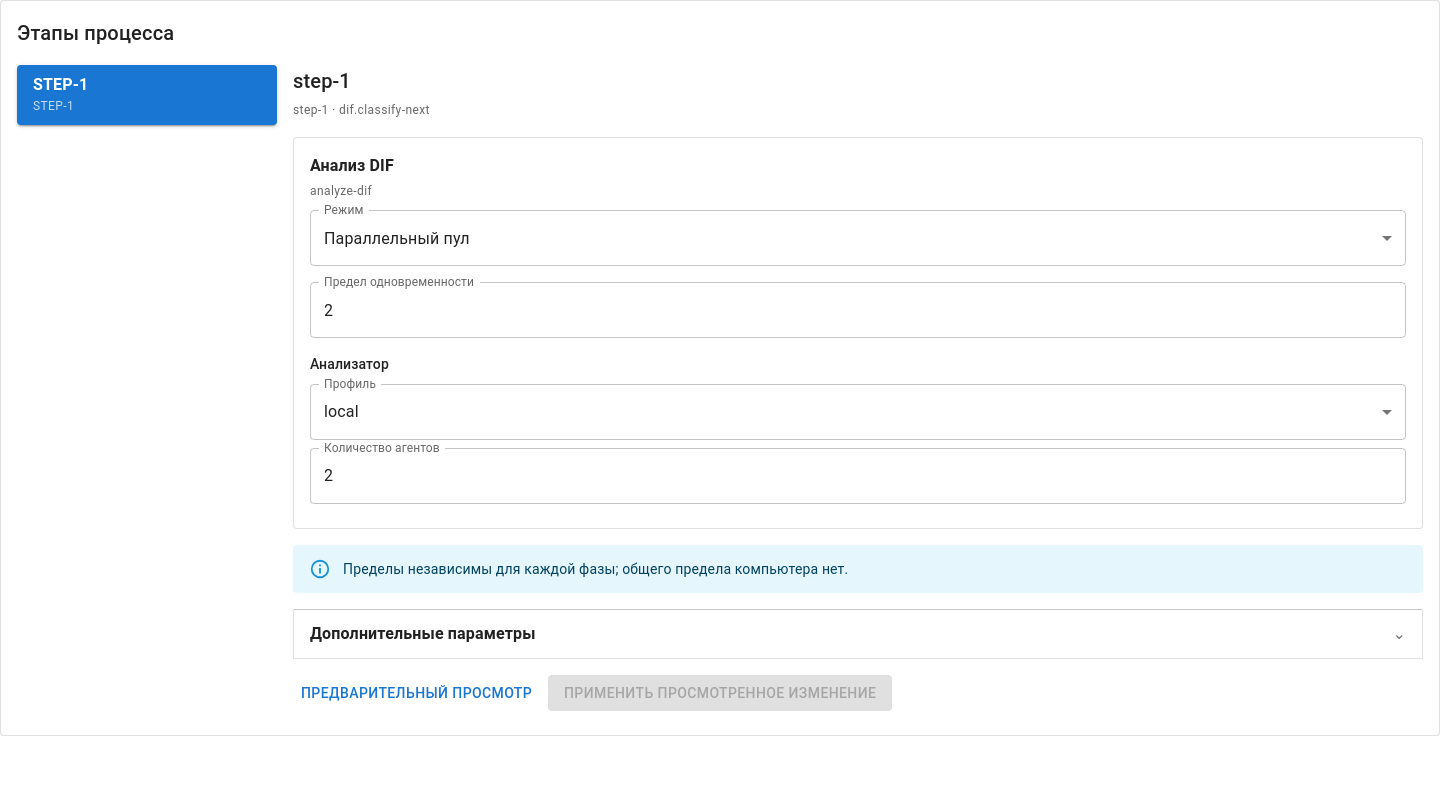
Test: workflow editor shows a server topology error
This screenshot has width=1440, height=810.
Expected: the element named "Режим analyze-dif" is shown, [310,210,1406,266]
Click the button "Предварительный просмотр" at (416, 693), box [293,675,540,712]
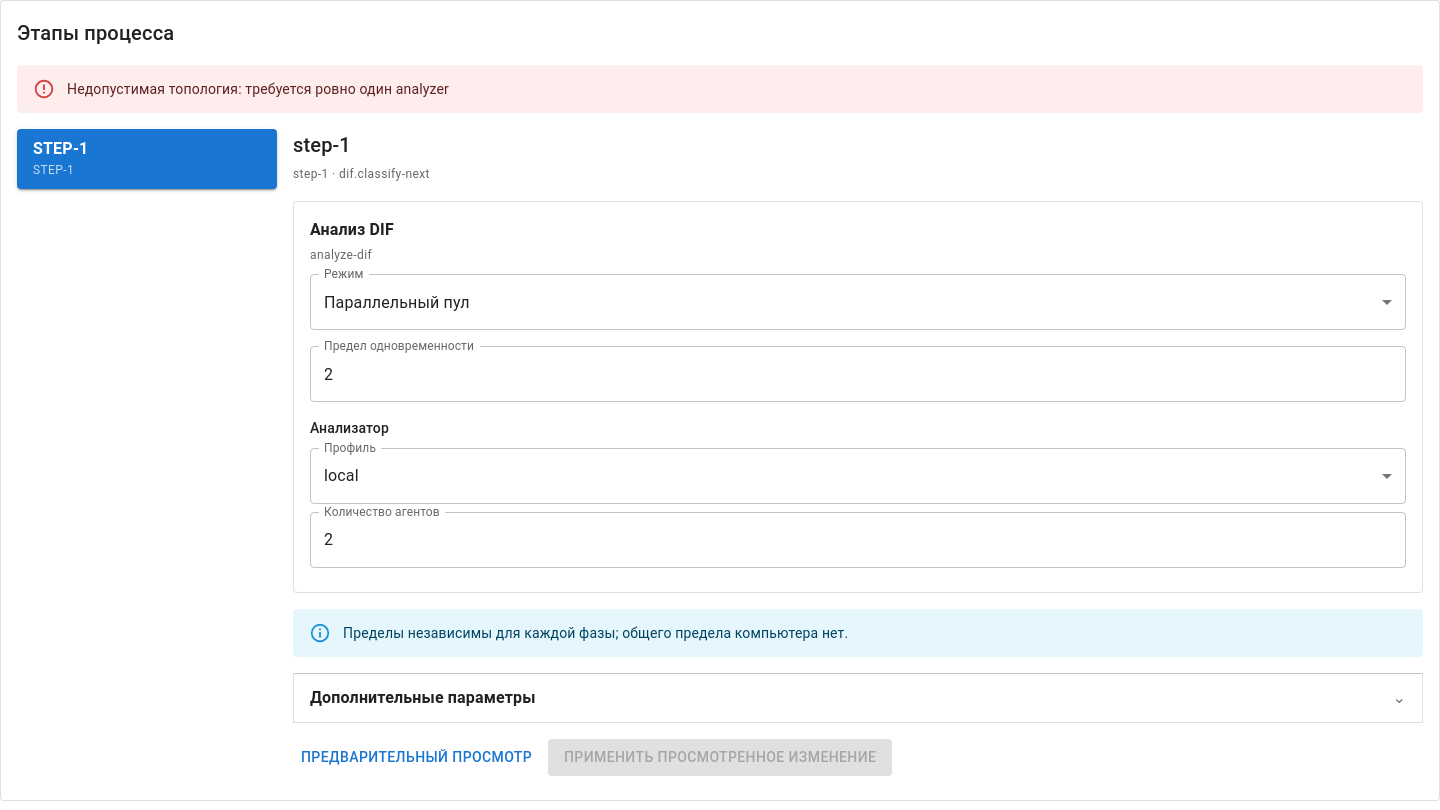
Result: the text "Недопустимая топология: требуется ровно один analyzer" is shown at [67,81,449,97]
